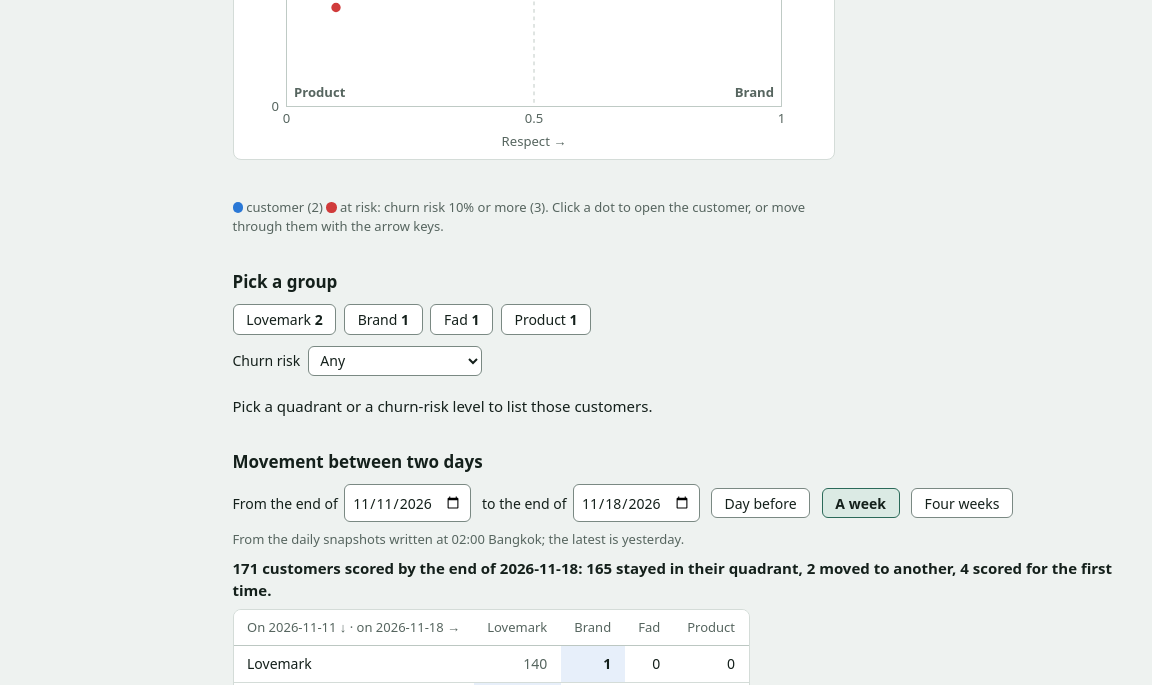
Scenario: a churn-risk level lists those customers, alone or with a quadrant
The width and height of the screenshot is (1152, 685).
(page scrolled)
Select "10% or more (at risk)" in the dropdown labelled "Churn risk" at (395, 361), box [308, 346, 482, 376]
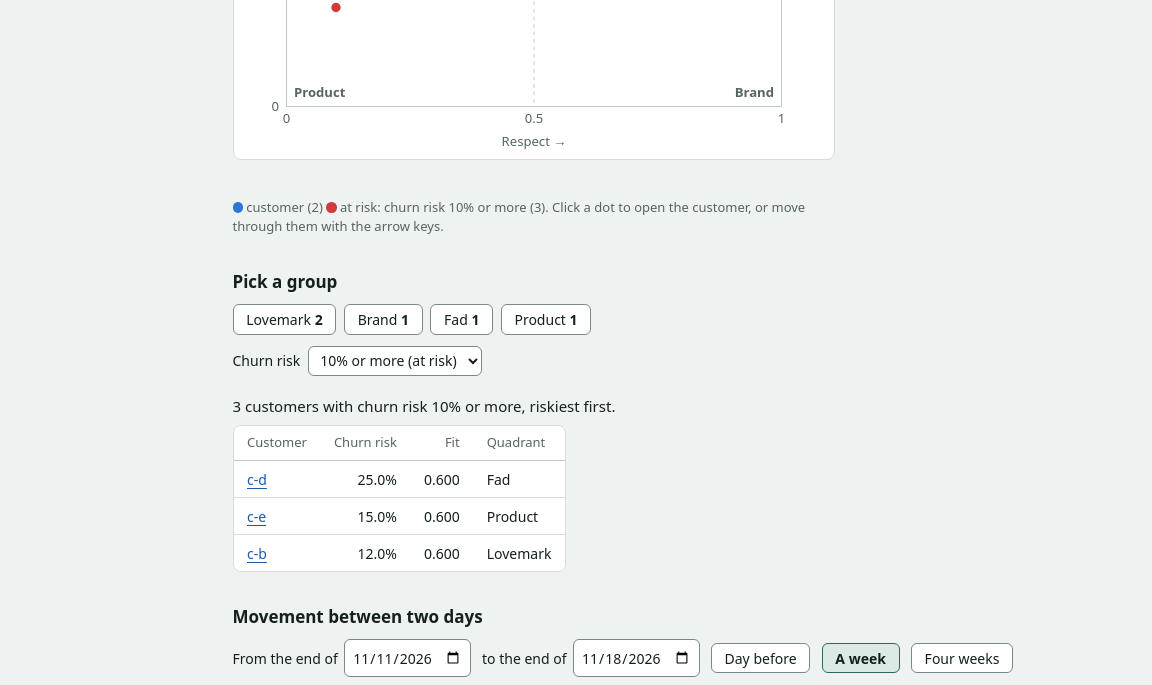
Expected: the text "3 customers with churn risk 10% or more, riskiest first." is shown, [232, 396, 615, 416]
Click the button "Fad 1" at (462, 319), box [430, 304, 493, 334]
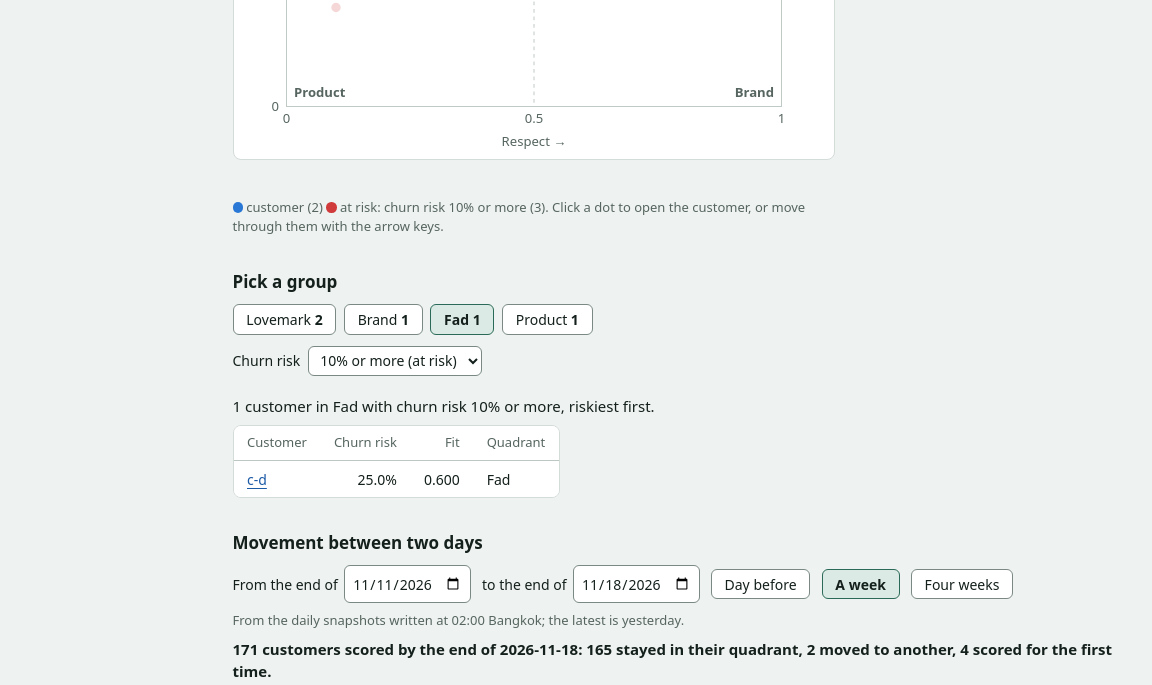
Expected: the text "1 customer in Fad with churn risk 10% or more, riskiest first." is shown, [232, 396, 655, 416]
Click the button "Brand 1" at (383, 319), box [344, 304, 423, 334]
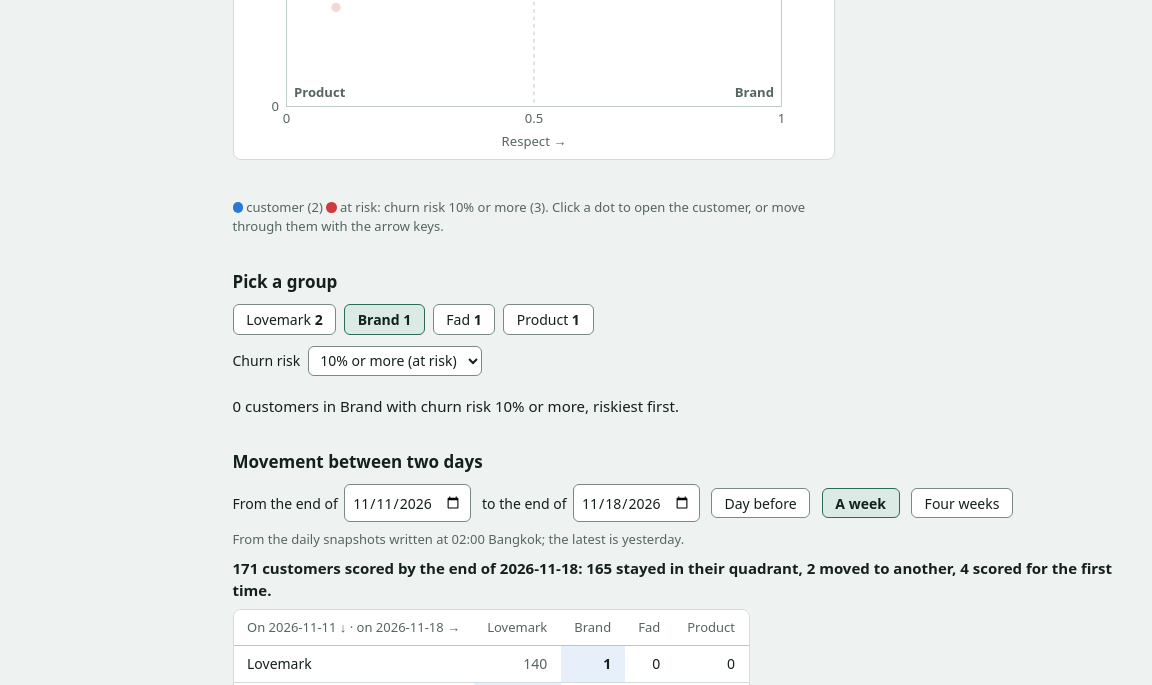
Expected: the text "0 customers in Brand with churn risk 10% or more, riskiest first." is shown, [232, 396, 679, 416]
